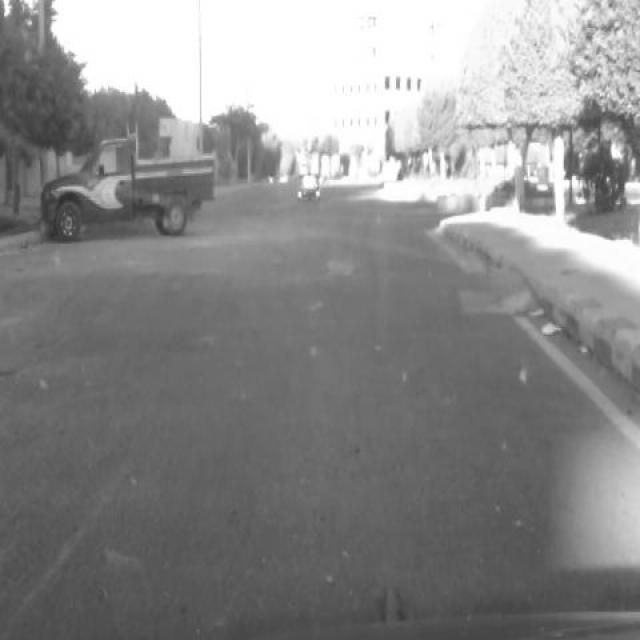Unmarked Bump: (0, 262, 540, 346)
